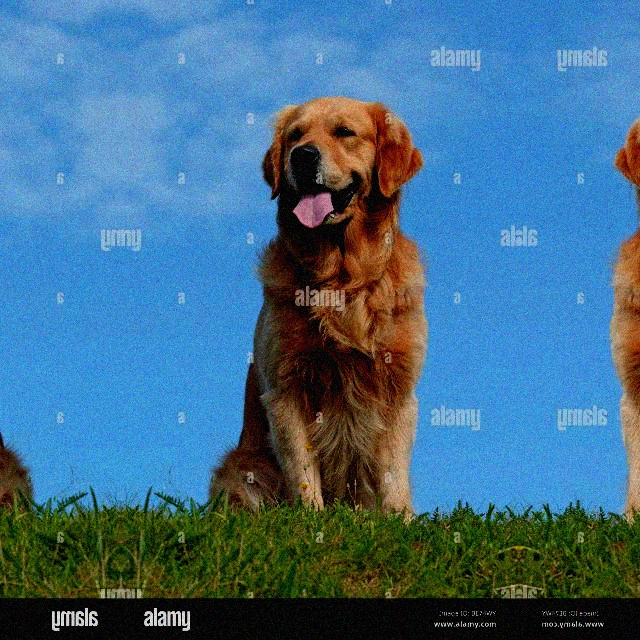dog: (232, 66, 438, 556), (599, 66, 640, 556), (0, 66, 8, 556)
